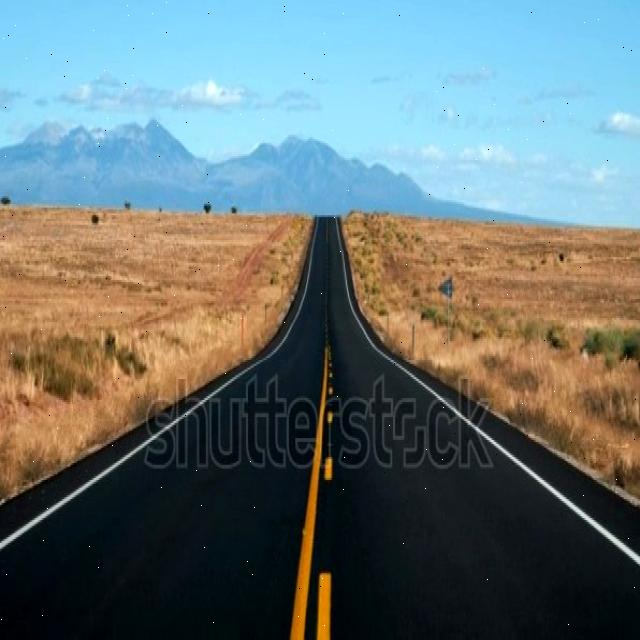lane: (317, 571, 331, 638)
